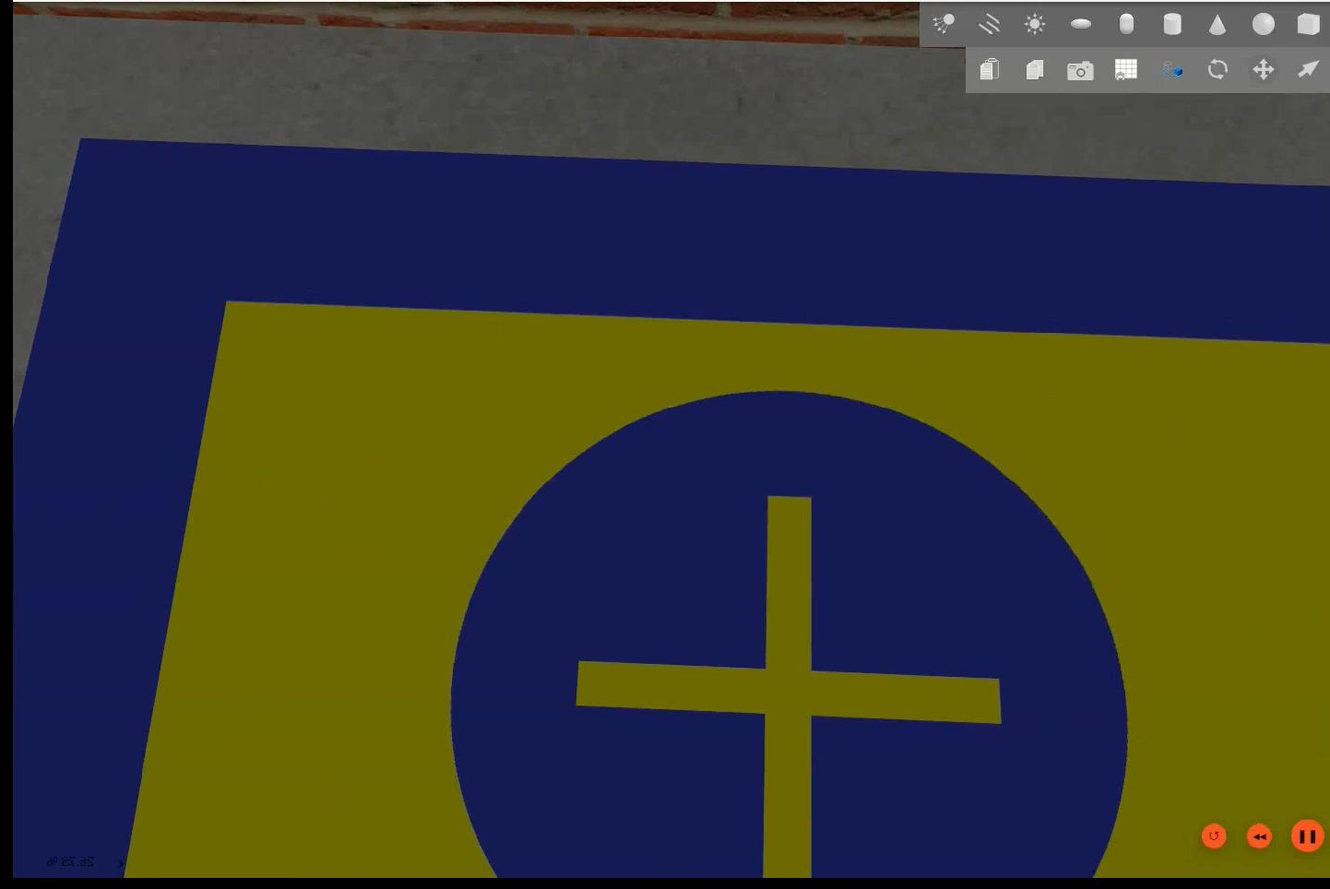large_base: (10, 130, 1328, 882)
